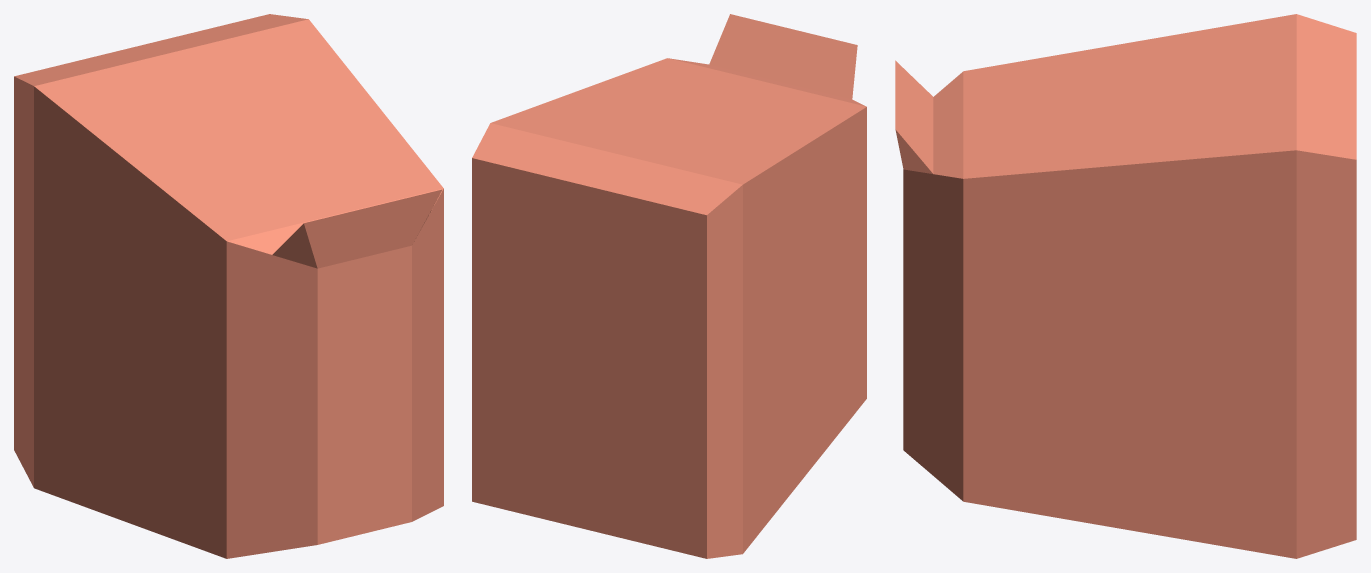
The model's file is EggWhitesBag.obj.
3 views of the same model, side by side, from view 1: azimuth 30°, elevation 25°; view 2: azimuth 150°, elevation 25°; view 3: azimuth 270°, elevation 25° (orthographic). The views are drawn at different scales.
Parts seen in each view (by area): view 1: bag.000_bag.000; view 2: bag.000_bag.000; view 3: bag.000_bag.000.
Part boxes in pixels (x1=…): bag.000_bag.000: x1=14, y1=14, x2=443, y2=558; bag.000_bag.000: x1=472, y1=14, x2=866, y2=558; bag.000_bag.000: x1=895, y1=14, x2=1356, y2=558.
Size of the model in its own units: 0.1101 by 0.1539 by 0.1574.
